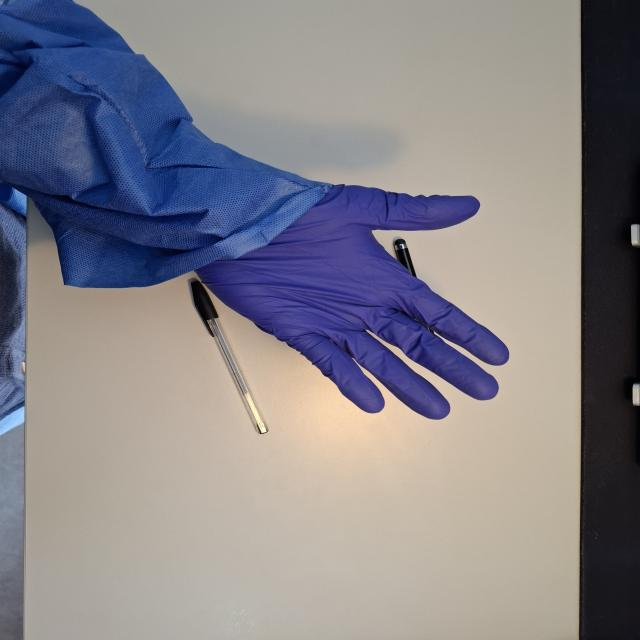glove_on: (191, 179, 515, 422)
